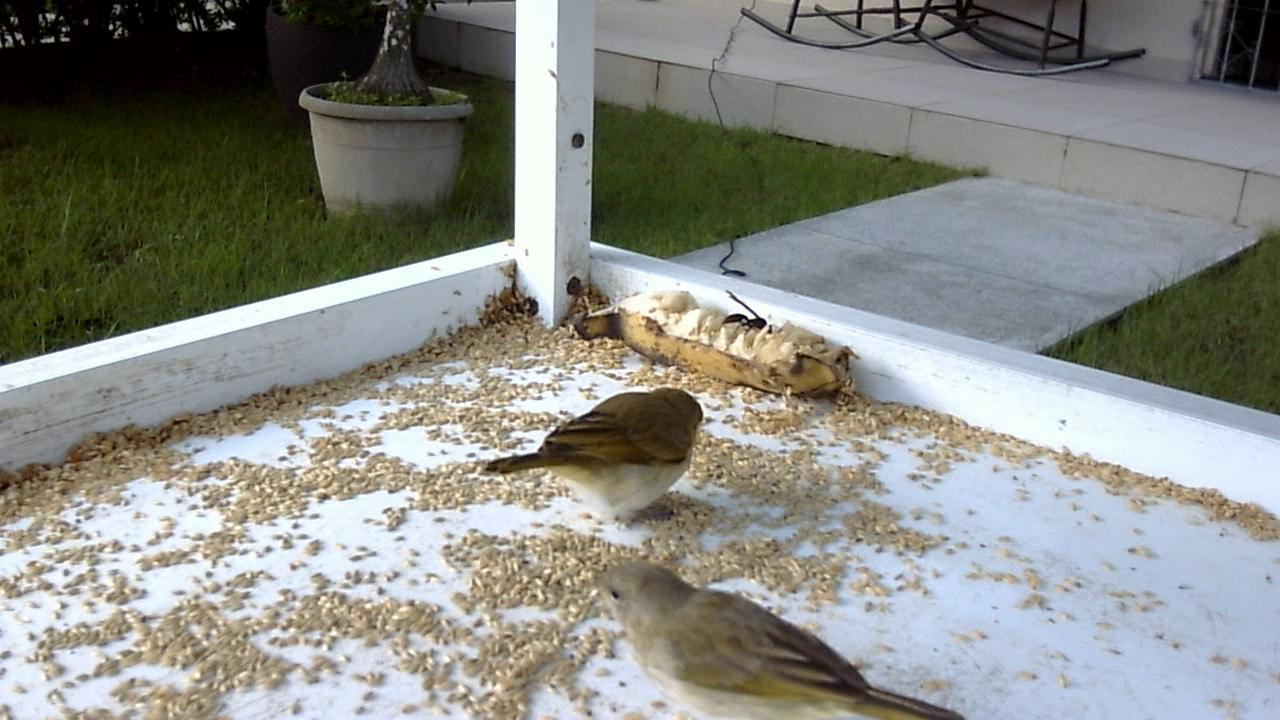canario_do_amazonas: (583, 546, 969, 720), (479, 379, 709, 545)
